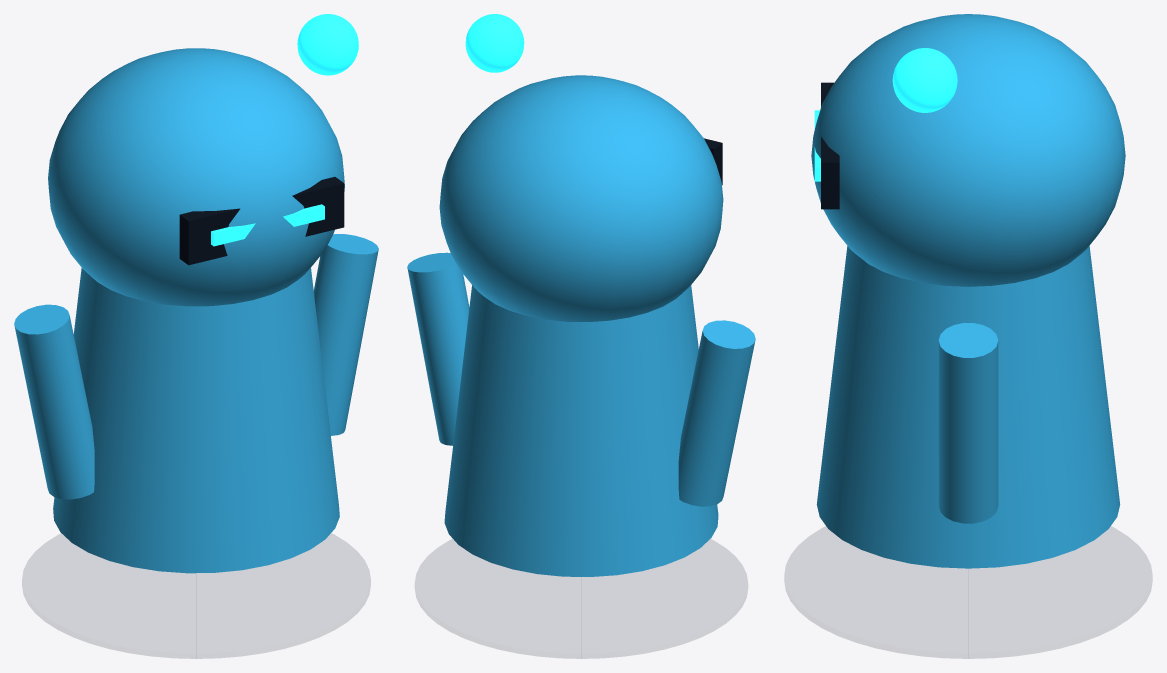
Rendered from agent-bot.glb.
3 views of the same model, side by side, from view 1: azimuth 30°, elevation 25°; view 2: azimuth 150°, elevation 25°; view 3: azimuth 270°, elevation 25° (orthographic). The views are drawn at different scales.
Parts seen in each view (by area): view 1: agent_body, agent_head, agent_base_shadow, agent_left_arm, agent_right_arm, agent_visor, agent_status_beacon, agent_visor_glow; view 2: agent_body, agent_head, agent_base_shadow, agent_left_arm, agent_right_arm, agent_status_beacon; view 3: agent_body, agent_head, agent_base_shadow, agent_right_arm, agent_status_beacon, agent_visor.
Boxes of the visible parts, bbox=[...] form: agent_body: bbox=[53, 268, 339, 573]; agent_head: bbox=[48, 48, 344, 306]; agent_base_shadow: bbox=[22, 533, 370, 658]; agent_left_arm: bbox=[14, 304, 94, 499]; agent_right_arm: bbox=[313, 234, 378, 435]; agent_visor: bbox=[179, 177, 344, 265]; agent_status_beacon: bbox=[297, 14, 358, 75]; agent_visor_glow: bbox=[211, 204, 324, 246]; agent_body: bbox=[444, 285, 718, 576]; agent_head: bbox=[439, 75, 723, 321]; agent_base_shadow: bbox=[415, 539, 747, 658]; agent_left_arm: bbox=[678, 320, 755, 506]; agent_right_arm: bbox=[407, 252, 469, 445]; agent_status_beacon: bbox=[465, 14, 524, 72]; agent_body: bbox=[816, 246, 1120, 568]; agent_head: bbox=[811, 14, 1125, 286]; agent_base_shadow: bbox=[785, 527, 1151, 658]; agent_right_arm: bbox=[938, 323, 998, 523]; agent_status_beacon: bbox=[892, 48, 957, 112]; agent_visor: bbox=[821, 82, 839, 209].
Bounding box in the file's own units: 0.8017 × 1.2 × 0.68.
